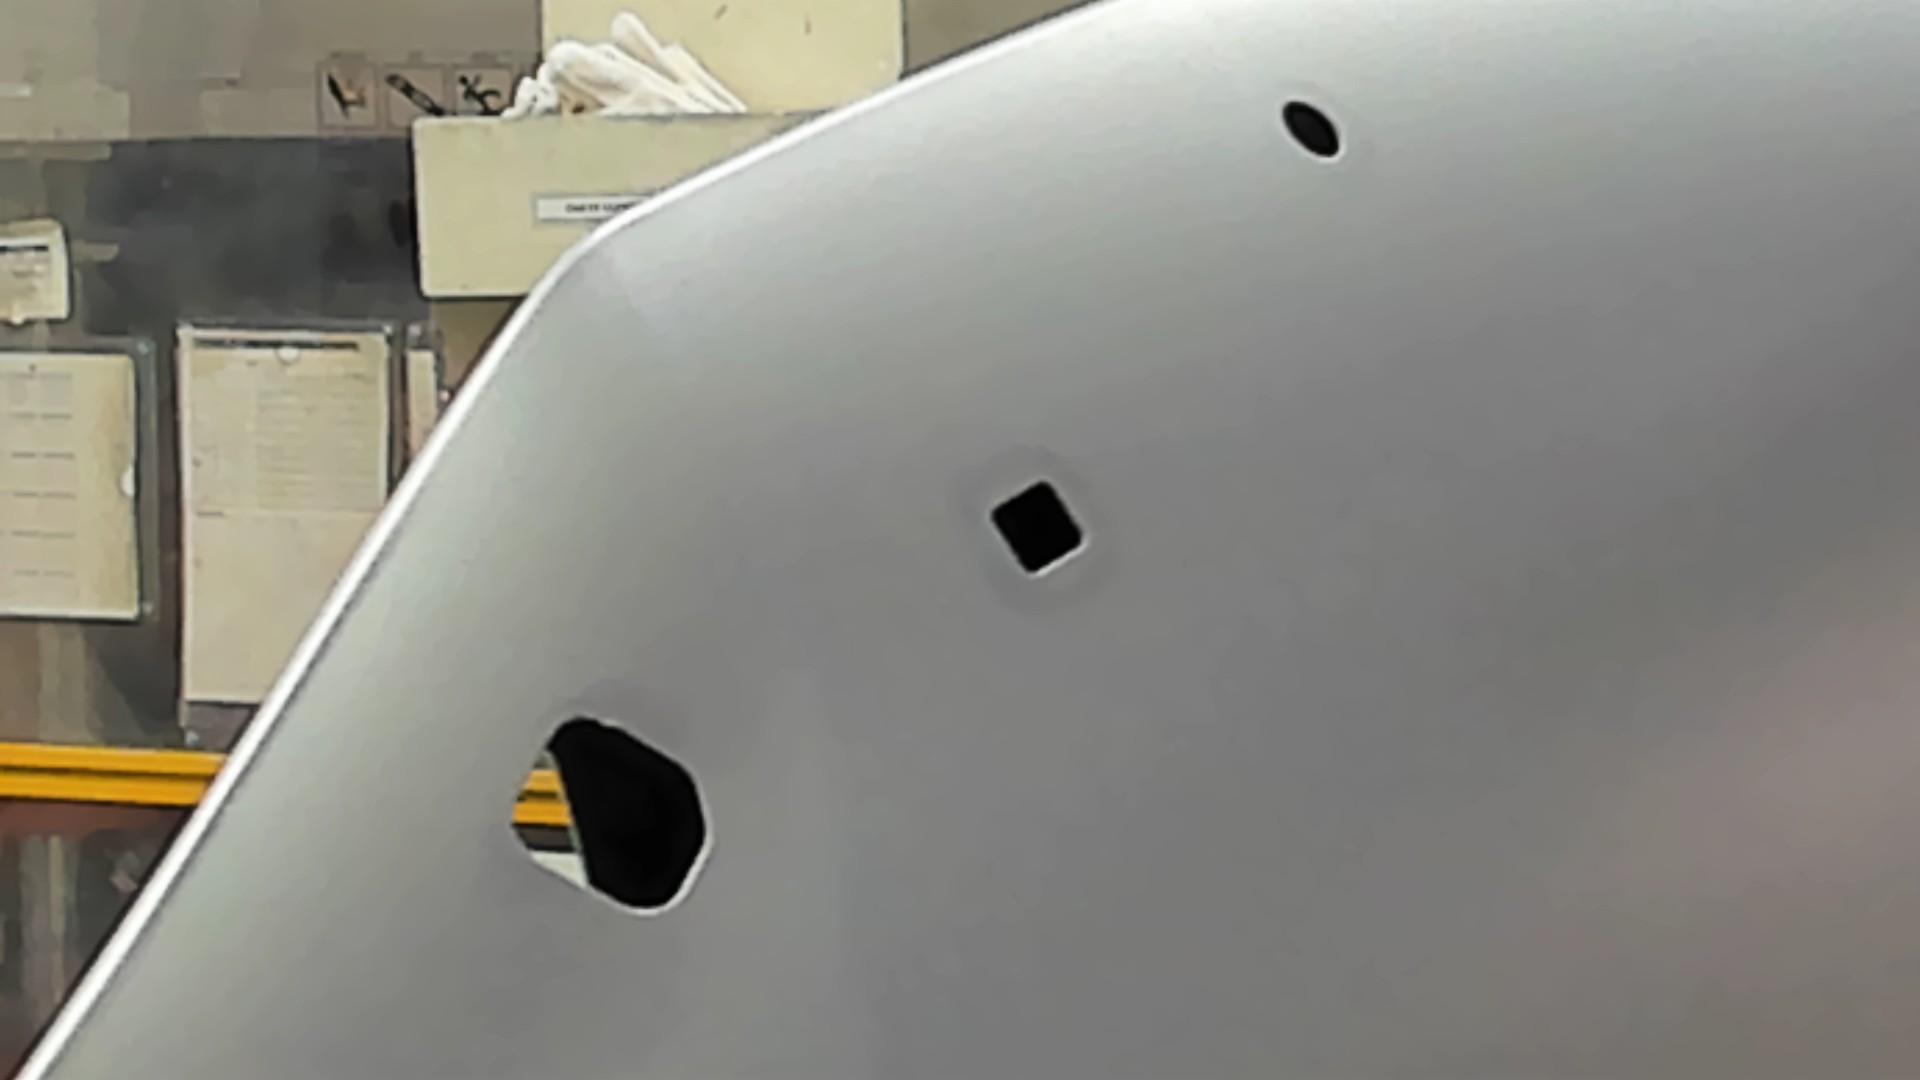capo: (1095, 166, 1920, 1080)
chico: (1279, 96, 1346, 161)
grande: (502, 709, 721, 923)
mediano: (984, 469, 1093, 588)
